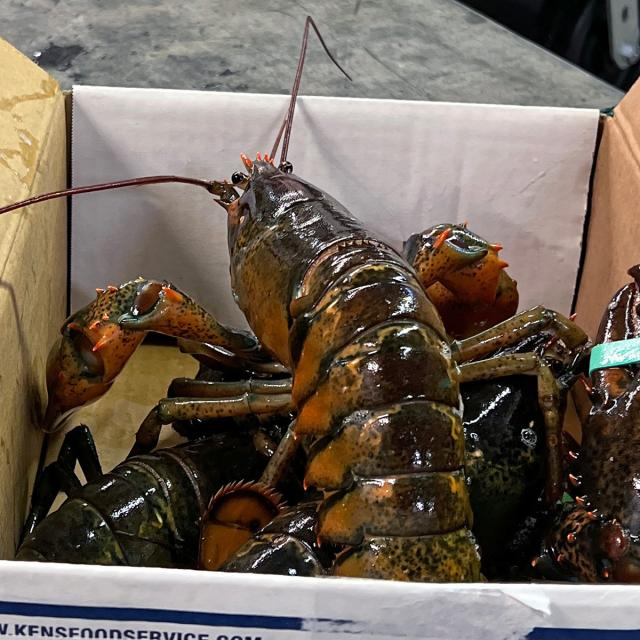Lobster: (0, 19, 589, 581)
